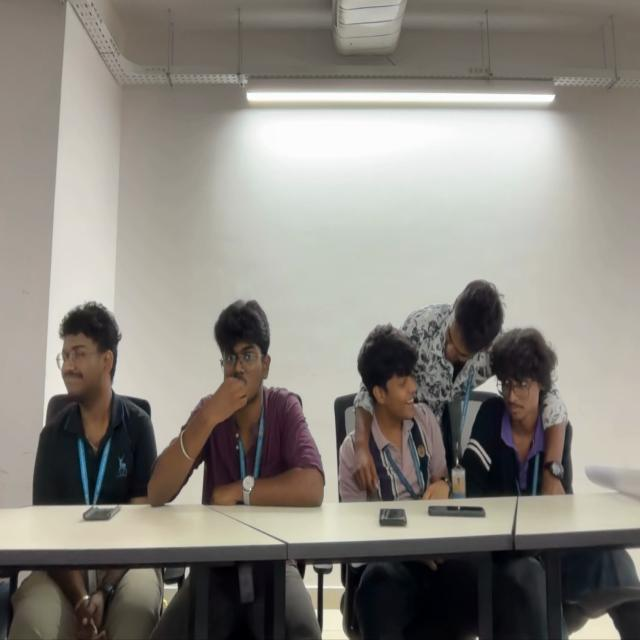Isolated: (153, 282, 325, 501), (31, 285, 146, 506)
socializing: (339, 279, 572, 496)
